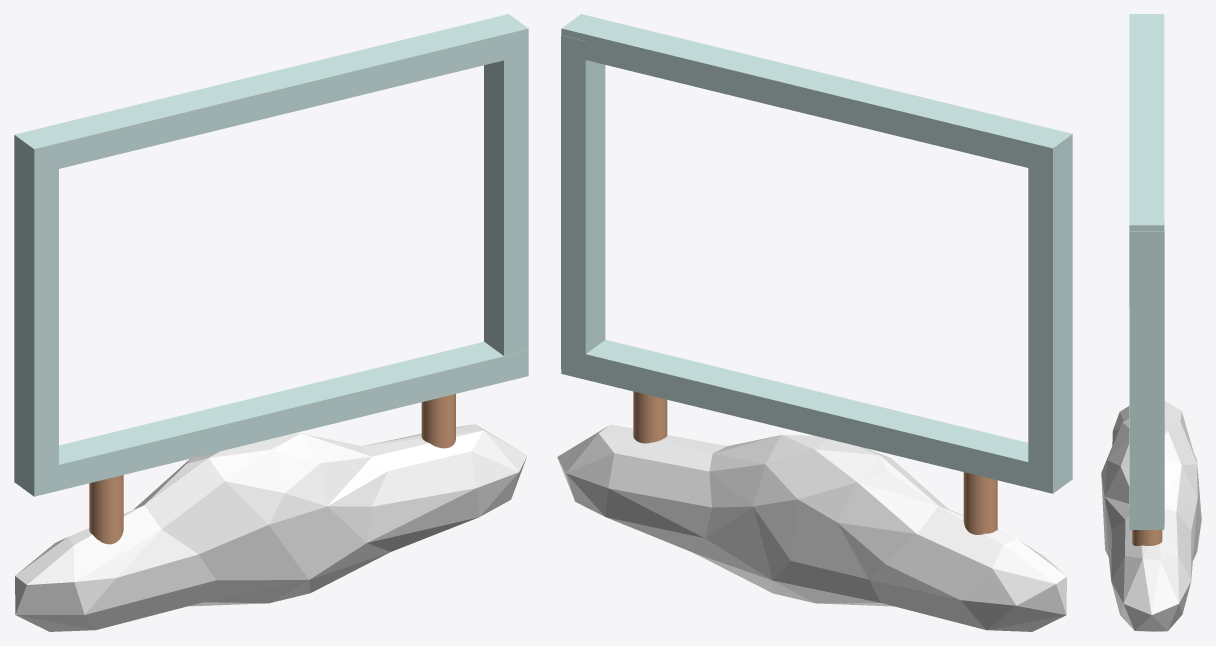
3 renders of one model, left to right at view 1: azimuth 30°, elevation 25°; view 2: azimuth 150°, elevation 25°; view 3: azimuth 270°, elevation 25°, orthographic. The views are drawn at different scales.
Visible parts, largest first — view 1: Box (×4), Cloud, Cylinder (×2); view 2: Box (×4), Cloud, Cylinder (×2); view 3: Box (×3), Cloud, Cylinder.
Part boxes in pixels (box(x1,y1,x2,y2)): Box (×4): box(14, 14, 528, 496); Cloud: box(15, 424, 526, 631); Cylinder (×2): box(89, 394, 455, 544); Box (×4): box(561, 14, 1072, 493); Cloud: box(557, 424, 1066, 631); Cylinder (×2): box(633, 391, 997, 534); Box (×3): box(1129, 14, 1164, 529); Cloud: box(1101, 401, 1201, 631); Cylinder: box(1132, 530, 1162, 545).
Bounding box in the file's own units: 10.36 × 9.95 × 2.01.
